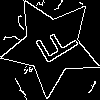F: (26, 21, 81, 72)
